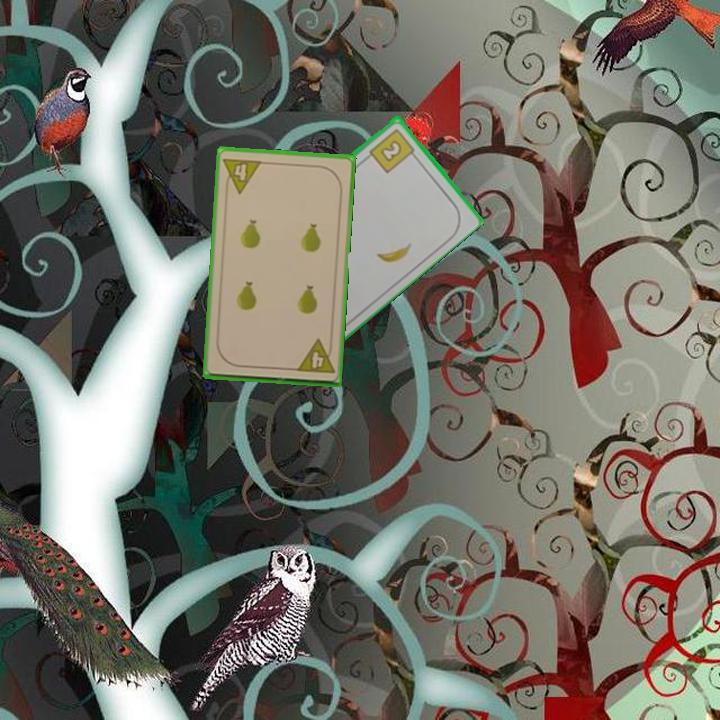2b: (366, 125, 420, 176)
4p: (220, 154, 264, 196), (293, 336, 337, 376)
